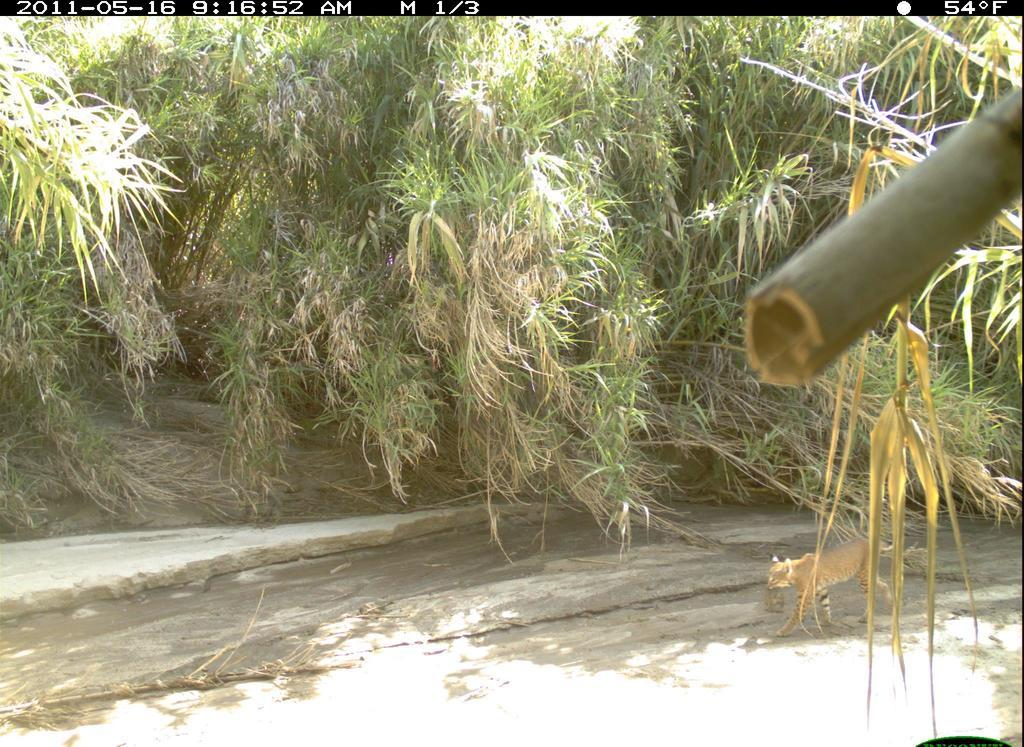bobcat: (743, 528, 916, 647)
